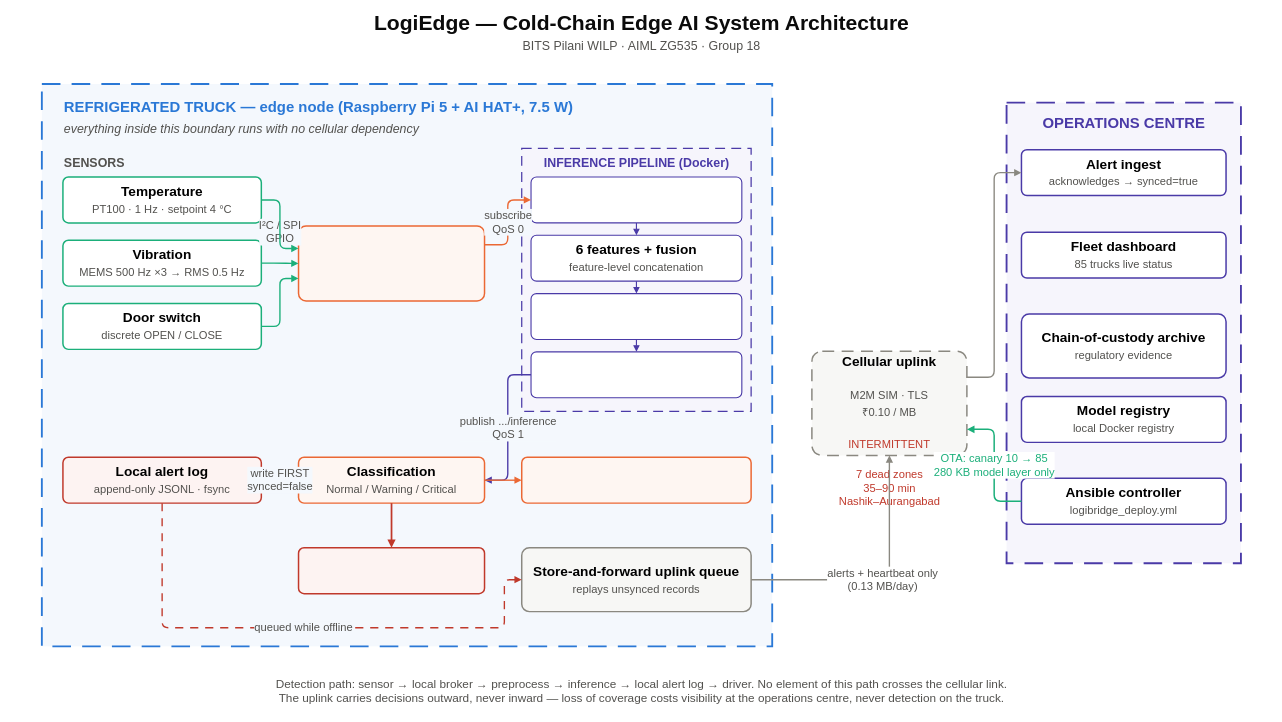
The diagram is 1282 pixels wide and 722 high, and some of its shapes have lost their labels. Here are the shapes that lost their labels. From the top down, the centre of each, then its label:
At point 636,199: "Preprocess 5-sample MA · 30 s / 10 s window".
At point 391,263: "Local MQTT broker Mosquitto · localhost:1883 logibridge/trucks/{id}/…".
At point 636,316: "Normalise frozen training_stats.npy".
At point 636,374: "TFLite INT8 model MODEL_PATH switches M1/M2/M3".
At point 636,480: "PSI drift monitor rolling 100 · alert > 0.25".
At point 391,570: "Driver alert cab buzzer + lamp".
